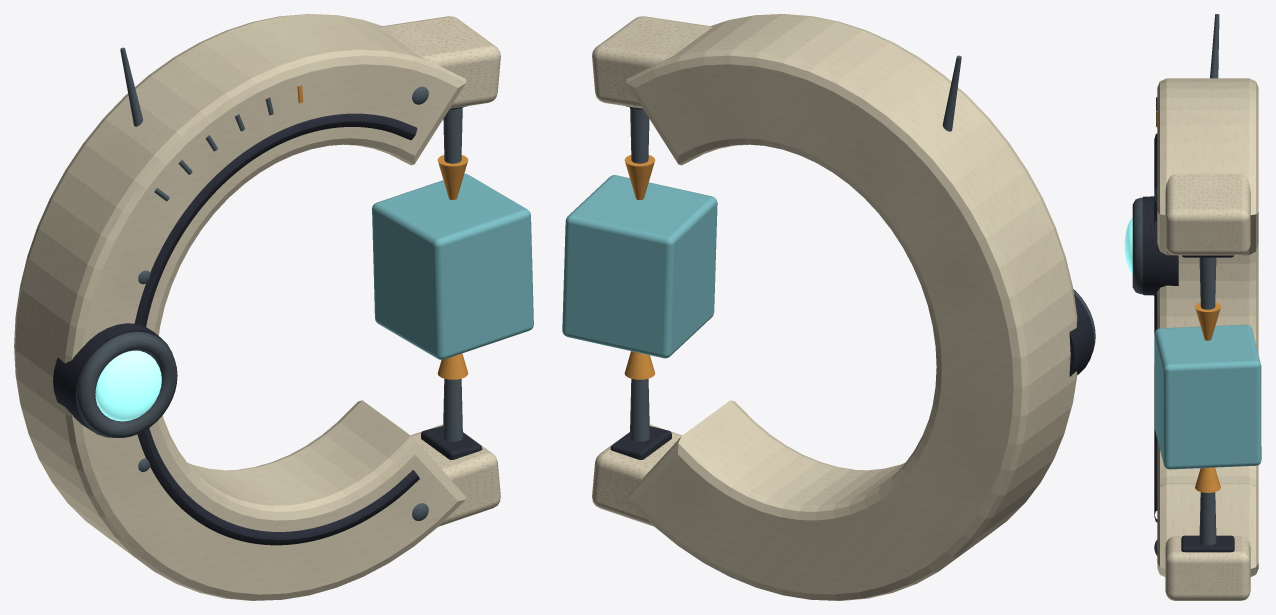
Rendered from parallax.glb.
3 views of the same model, side by side, from view 1: azimuth 30°, elevation 25°; view 2: azimuth 150°, elevation 25°; view 3: azimuth 270°, elevation 25° (orthographic). The views are drawn at different scales.
Visible parts, largest first — view 1: Cast C-frame, Calibration glass, Inner track, Slider jaw (×2), Lens bezel, Blue lens, Camera barrel, Plunger (×2), Ram collar, Contact tip; view 2: Cast C-frame, Calibration glass, Slider jaw (×2), Plunger (×2), Camera barrel, Ram collar, Contact tip; view 3: Cast C-frame, Calibration glass, Slider jaw (×2), Camera barrel, Plunger (×2), Contact tip (×2), Lens bezel, Inner track, Ram collar, Sensor whisker, Blue lens.
Boxes of the visible parts, bbox=[...] form: Cast C-frame: bbox=[14, 14, 465, 600]; Calibration glass: bbox=[372, 173, 533, 359]; Inner track: bbox=[134, 113, 419, 545]; Slider jaw (×2): bbox=[380, 16, 500, 526]; Lens bezel: bbox=[77, 331, 177, 437]; Blue lens: bbox=[95, 350, 161, 421]; Camera barrel: bbox=[53, 323, 172, 437]; Plunger (×2): bbox=[443, 107, 462, 441]; Ram collar: bbox=[421, 426, 482, 459]; Contact tip: bbox=[437, 155, 468, 199]; Cast C-frame: bbox=[626, 14, 1077, 600]; Calibration glass: bbox=[562, 175, 717, 358]; Slider jaw (×2): bbox=[592, 16, 712, 526]; Plunger (×2): bbox=[630, 107, 649, 441]; Camera barrel: bbox=[1069, 293, 1094, 376]; Ram collar: bbox=[610, 426, 671, 459]; Contact tip: bbox=[624, 155, 655, 199]; Cast C-frame: bbox=[1157, 78, 1258, 576]; Calibration glass: bbox=[1154, 324, 1261, 469]; Slider jaw (×2): bbox=[1165, 173, 1250, 600]; Camera barrel: bbox=[1142, 196, 1178, 295]; Plunger (×2): bbox=[1199, 257, 1216, 545]; Contact tip (×2): bbox=[1195, 302, 1220, 492]; Lens bezel: bbox=[1132, 197, 1142, 294]; Inner track: bbox=[1154, 133, 1157, 522]; Ram collar: bbox=[1181, 535, 1234, 552]; Sensor whisker: bbox=[1210, 14, 1219, 78]; Blue lens: bbox=[1124, 217, 1132, 273].
Bounding box in the file's own units: 1.75 × 1.98 × 0.5154.
9 materials, 7 textured.
